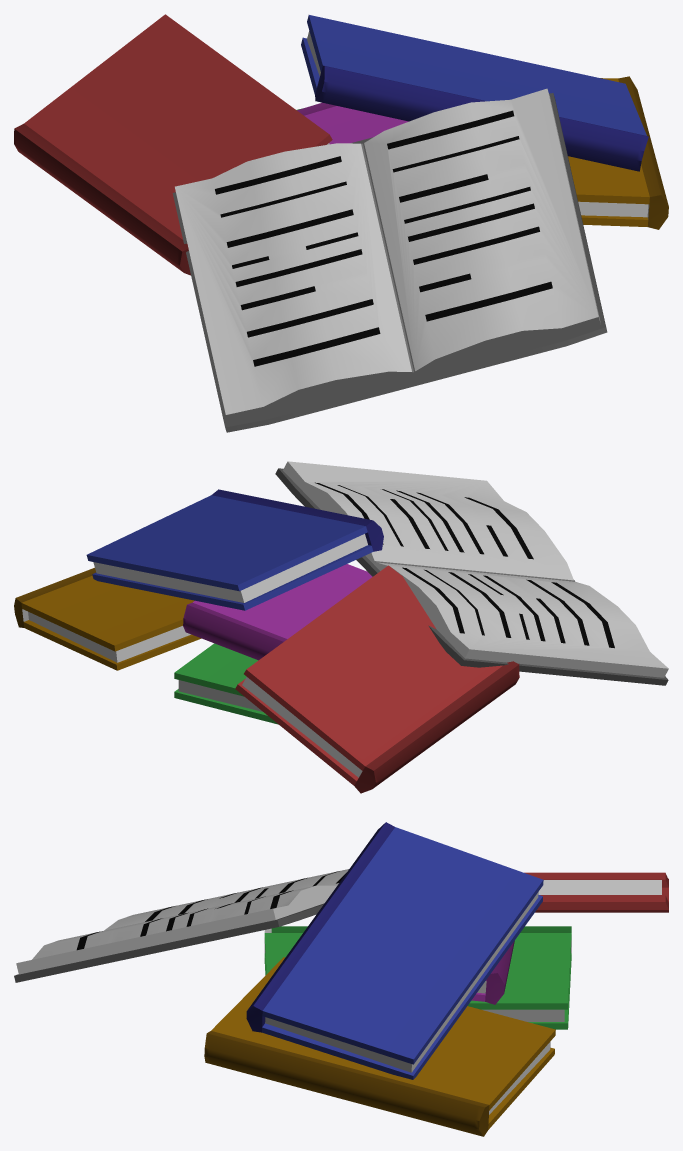
Rendered from book pile.fbx.
3 renders of one model, top to bottom at view 1: azimuth 30°, elevation 25°; view 2: azimuth 150°, elevation 25°; view 3: azimuth 270°, elevation 25°, orthographic. The views are drawn at different scales.
Visible parts, largest first — view 1: book5; view 2: book5; view 3: book5.
Boxes of the visible parts, x1,y1,x2,y2 form: book5: (14,14,668,432); book5: (14,461,668,793); book5: (14,822,668,1136).
Size of the model in its own units: 10.51 by 3.88 by 11.18.
